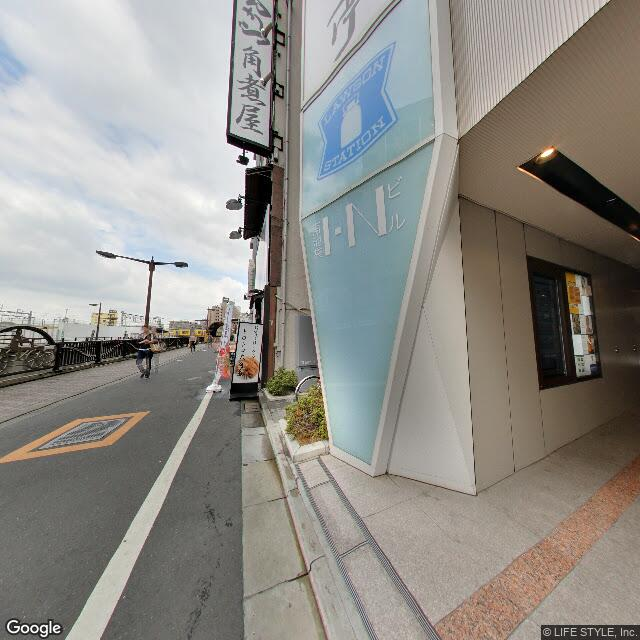lawson: (311, 29, 405, 181)
